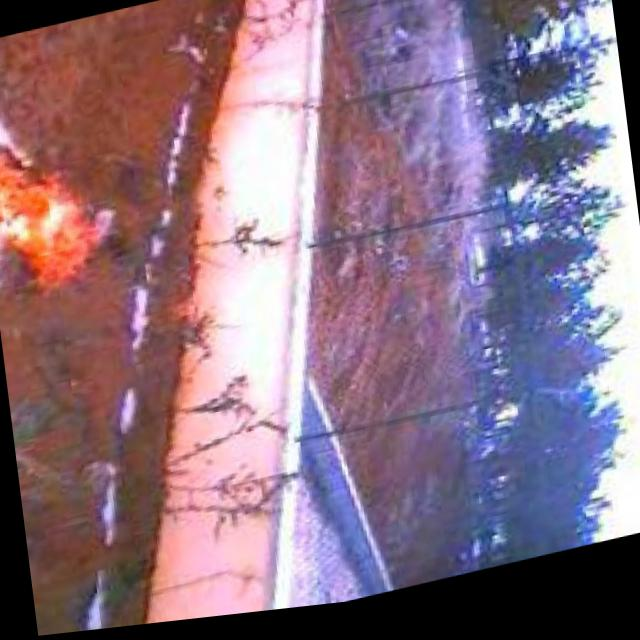Fire: (0, 114, 110, 304)
